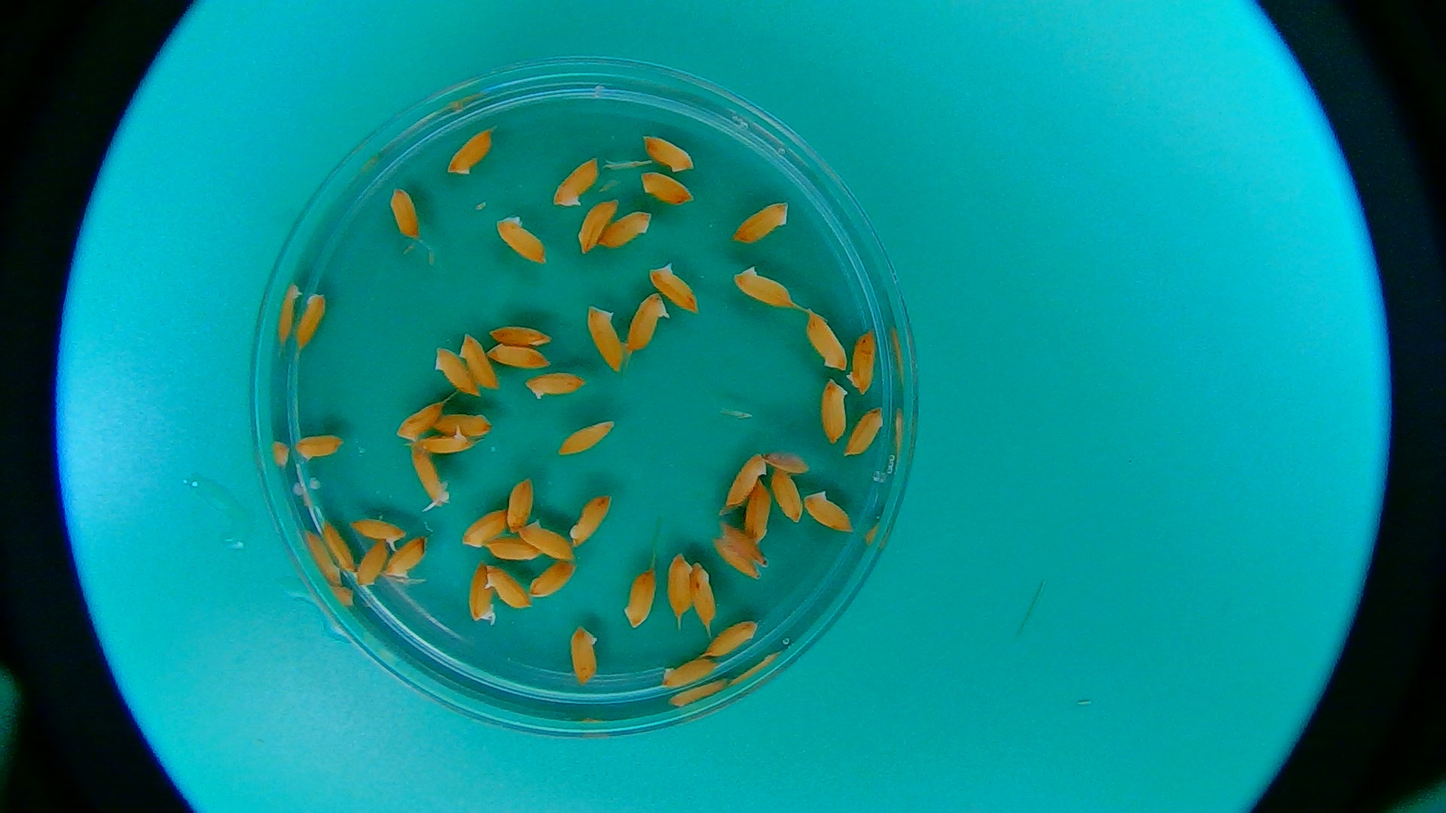no: (732, 263, 795, 312), (585, 302, 628, 373), (494, 212, 549, 266), (648, 260, 701, 316), (624, 291, 672, 352), (730, 199, 789, 248), (805, 307, 848, 373), (722, 447, 768, 507), (517, 519, 575, 565), (445, 126, 496, 178), (550, 156, 600, 209), (481, 562, 532, 613), (841, 400, 883, 461), (577, 196, 621, 254), (567, 495, 614, 549), (432, 344, 480, 396), (710, 534, 764, 580), (458, 330, 499, 389), (621, 568, 659, 631), (843, 327, 877, 397), (801, 489, 853, 534), (643, 132, 697, 175), (636, 167, 694, 207), (768, 463, 805, 524), (704, 618, 760, 658), (567, 625, 603, 687), (459, 507, 512, 549), (556, 420, 616, 457), (380, 534, 428, 580), (393, 399, 443, 443), (599, 211, 655, 250), (294, 290, 328, 354), (686, 559, 718, 625), (743, 470, 770, 548), (426, 410, 497, 439), (819, 376, 849, 444), (722, 521, 768, 565), (386, 184, 422, 240), (485, 343, 552, 373), (321, 519, 356, 575), (481, 533, 545, 563), (487, 321, 555, 349), (522, 370, 585, 400), (661, 657, 718, 690), (528, 559, 575, 599), (667, 550, 694, 617), (354, 536, 389, 587), (505, 477, 532, 534), (293, 433, 343, 461), (759, 450, 811, 476)
yes: (412, 452, 447, 510), (348, 517, 407, 549), (469, 562, 497, 629), (414, 428, 475, 454)
